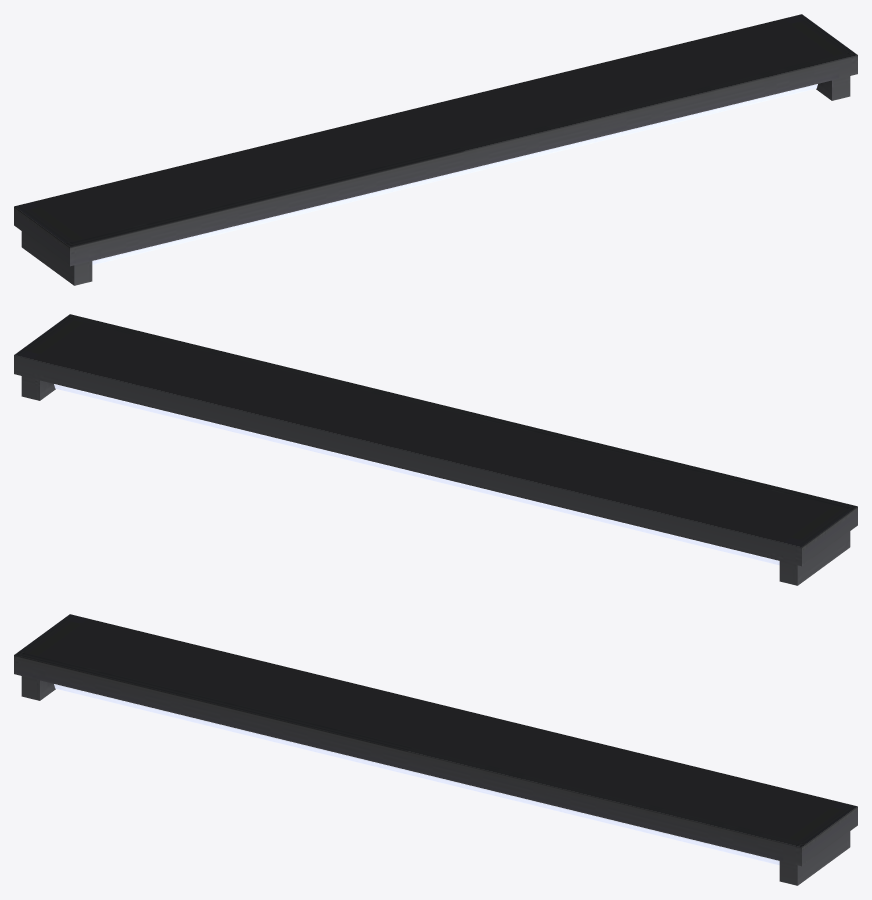
Rendered from fluorescent_dead.glb.
3 renders of one model, top to bottom at view 1: azimuth 30°, elevation 25°; view 2: azimuth 150°, elevation 25°; view 3: azimuth 330°, elevation 25°, orthographic.
Visible parts, largest first — view 1: Fixture; view 2: Fixture; view 3: Fixture.
Part boxes in pixels (x1=…): Fixture: x1=14, y1=14, x2=857, y2=285; Fixture: x1=14, y1=314, x2=857, y2=585; Fixture: x1=14, y1=614, x2=857, y2=885.
Bounding box in the file's own units: 2.6 × 0.1301 × 0.3199.
2 materials, 2 textured.
